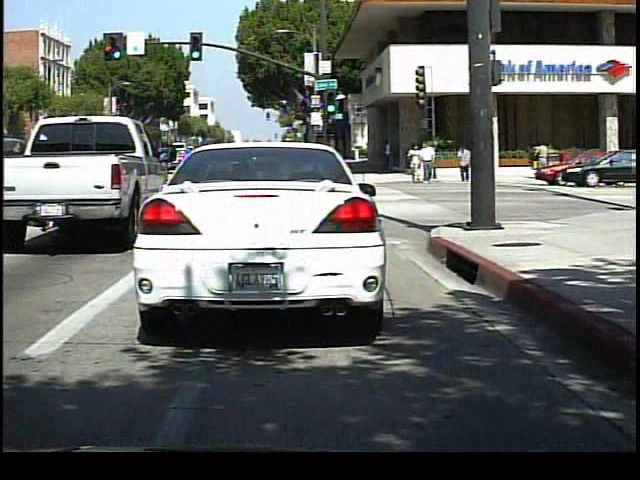person: (531, 137, 553, 179), (420, 137, 439, 185), (455, 139, 472, 184), (409, 141, 424, 185)
